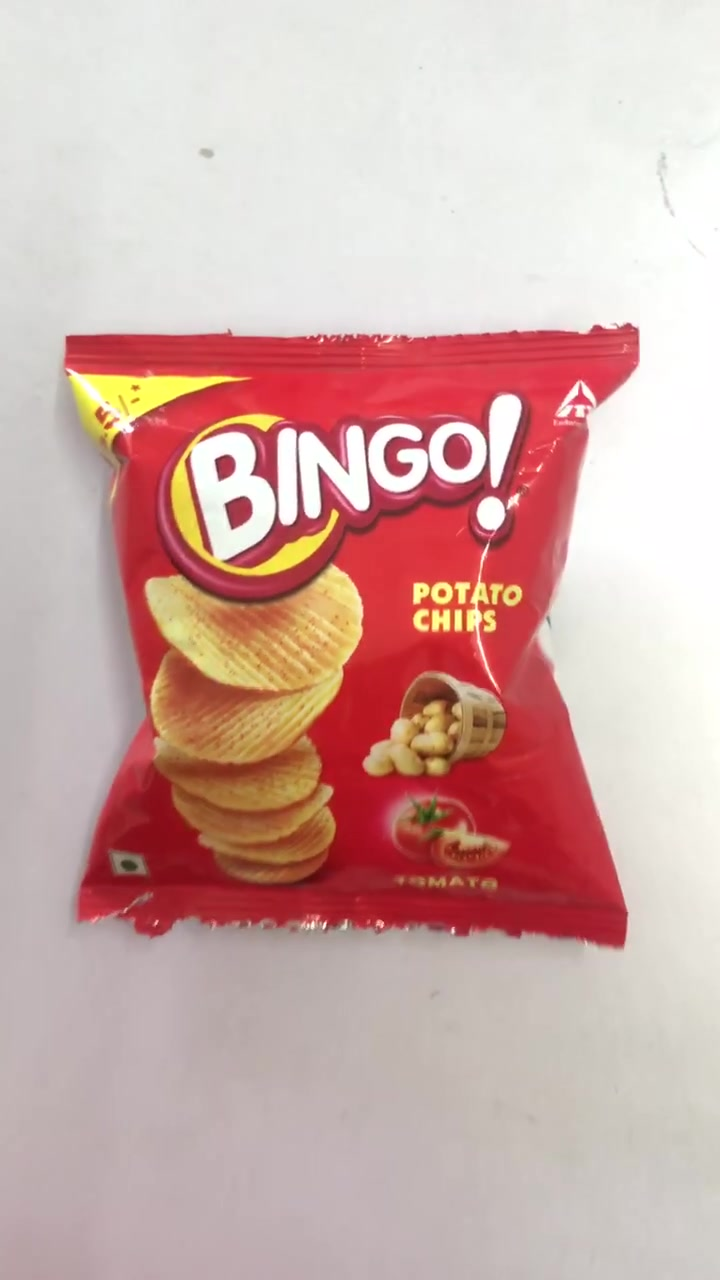Bingo: (66, 335, 631, 939)
